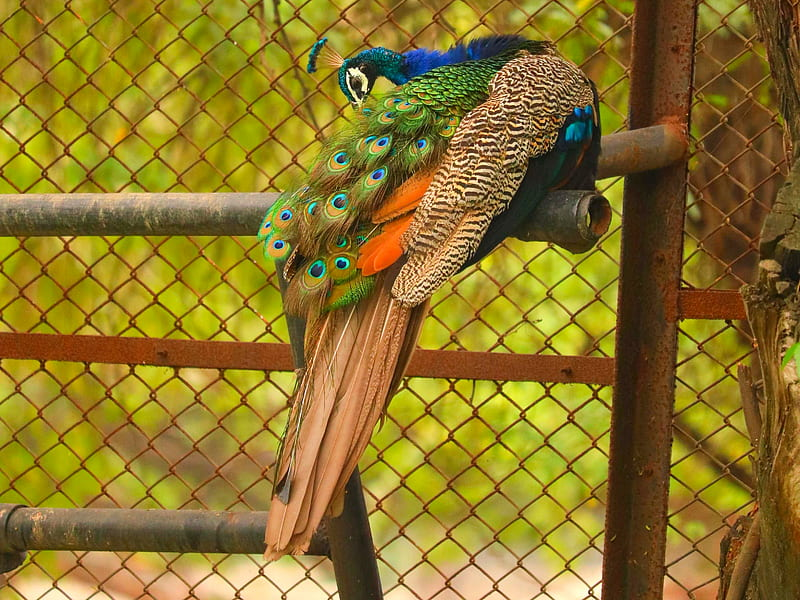bird: (229, 21, 634, 561)
